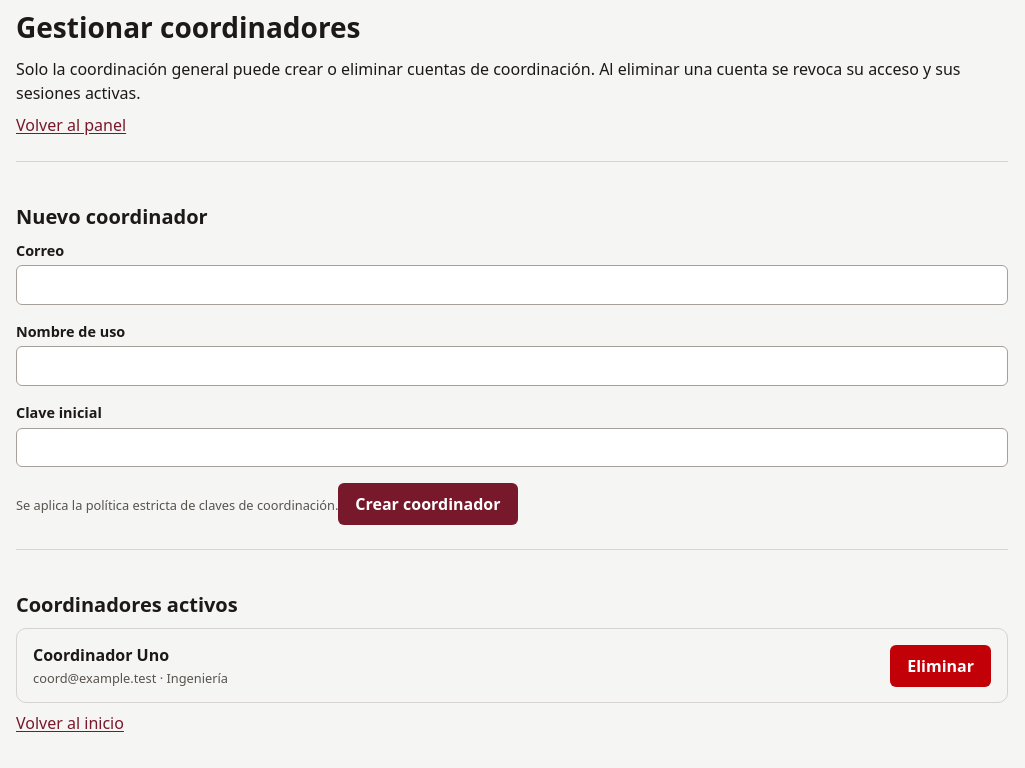
Scenario: Gestionar coordinadores › crea un coordinador y recarga la lista
The width and height of the screenshot is (1025, 768).
Check: the text "Coordinador Uno" is shown, box [33,644,169,666]
Type "nuevo@example.test" into the field labelled "Correo" at {"x": 512, "y": 285}, box [16,265,1008,305]
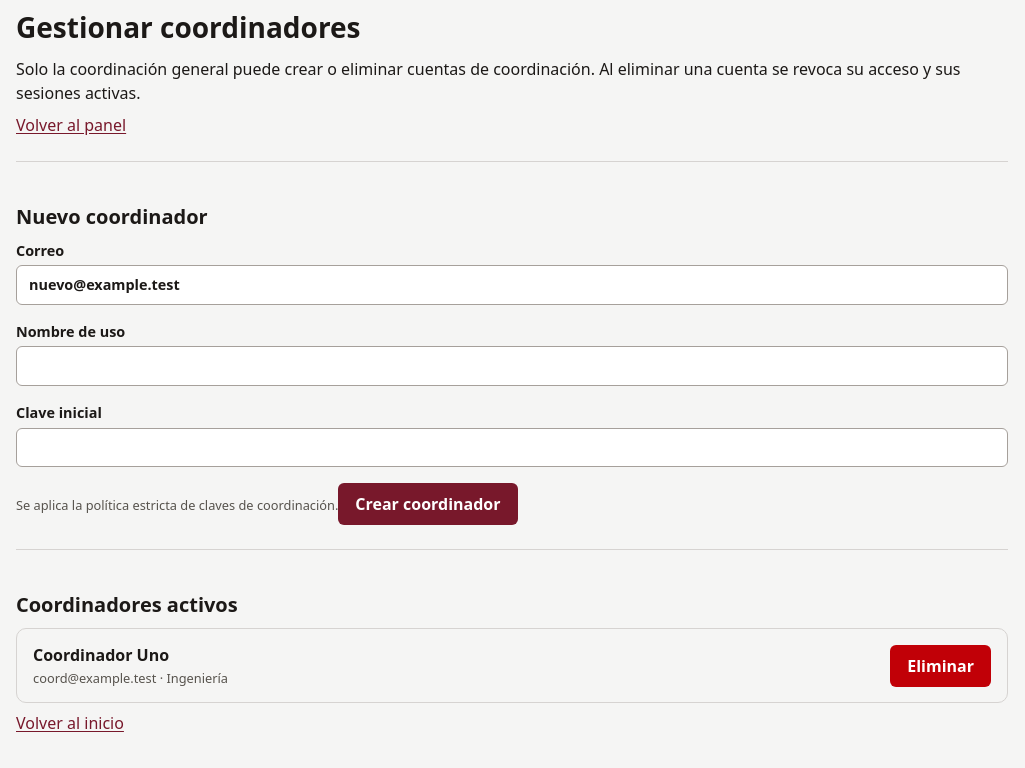
Type "Nuevo Coordinador" into the field labelled "Nombre de uso" at {"x": 512, "y": 366}, box [16,346,1008,386]
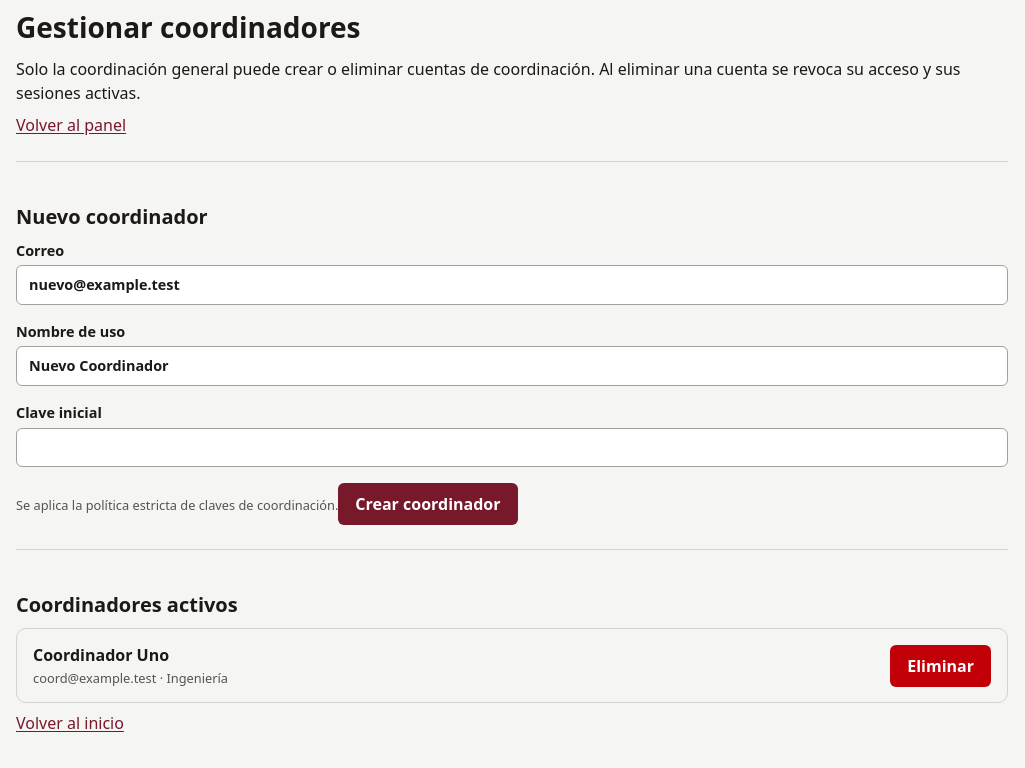
Type "Clave-Segura-2026!" into the password field labelled "Clave inicial" at {"x": 512, "y": 447}, box [16,428,1008,467]
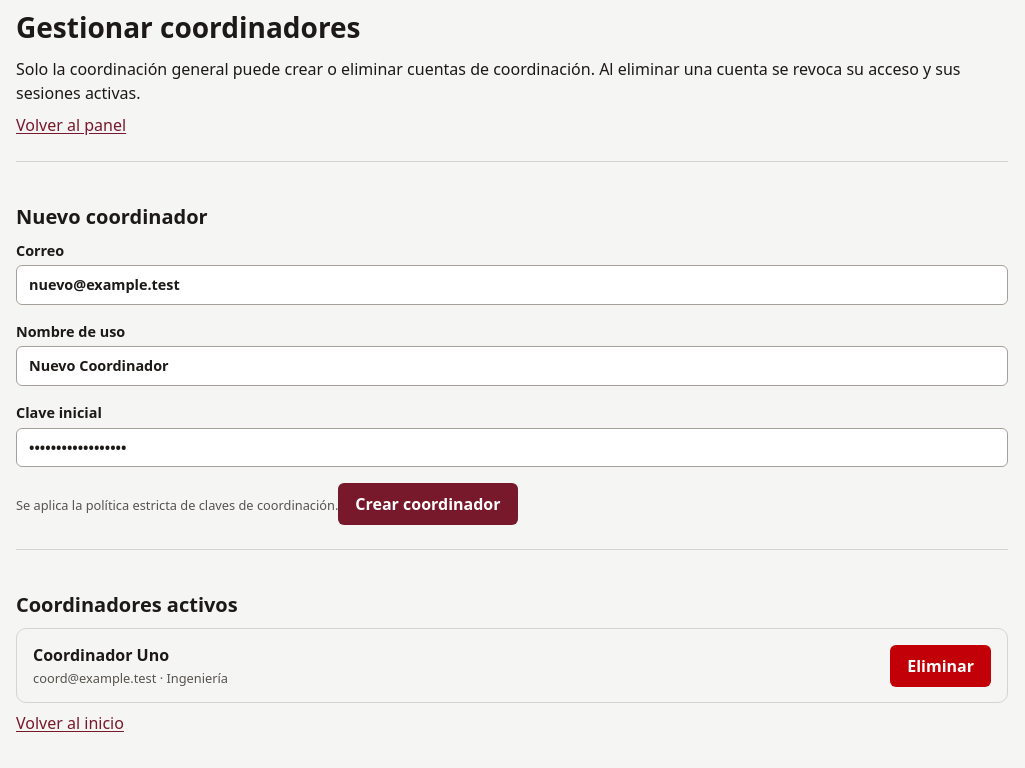
Click the button "Crear coordinador" at {"x": 428, "y": 504}, box [338,483,518,525]
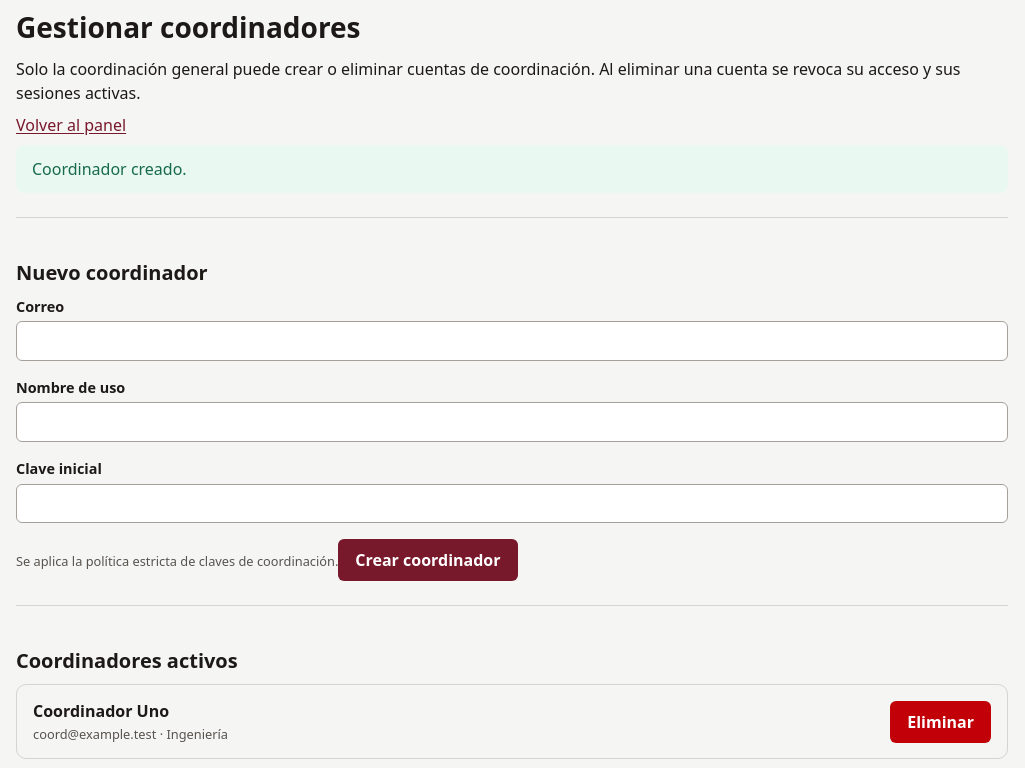
Check: the text "Coordinador creado." is shown, box [16,145,1008,193]
